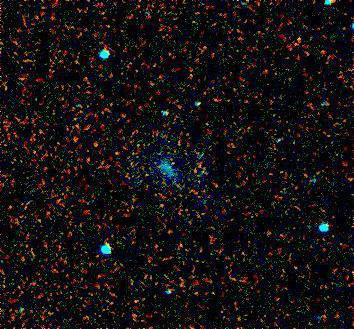star: (81, 130, 111, 160)
